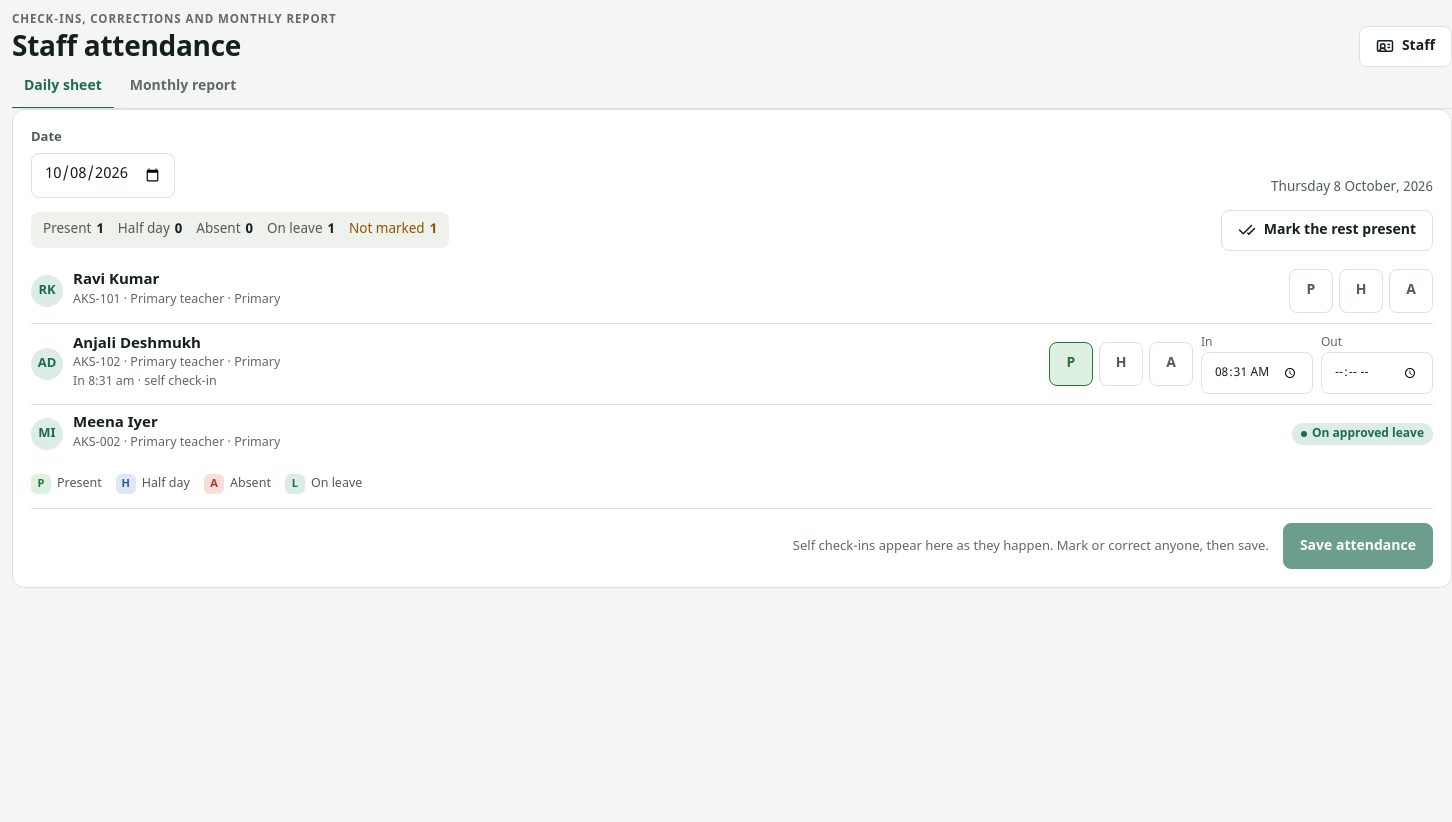
Test: daily sheet › marks and corrects, keeping approved leave locked
The width and height of the screenshot is (1452, 822).
Expected: the number of list items with test id "staff-sheet-row" is 3, x1=31 y1=259 x2=1433 y2=324; x1=31 y1=324 x2=1433 y2=405; x1=31 y1=405 x2=1433 y2=462
Expected: the list item with test id "staff-sheet-row" shows "In 8:31 am · self check-in", x1=73 y1=374 x2=217 y2=390
Click the button "Mark the rest present".
click(1327, 230)  # box x1=1221 y1=210 x2=1433 y2=251
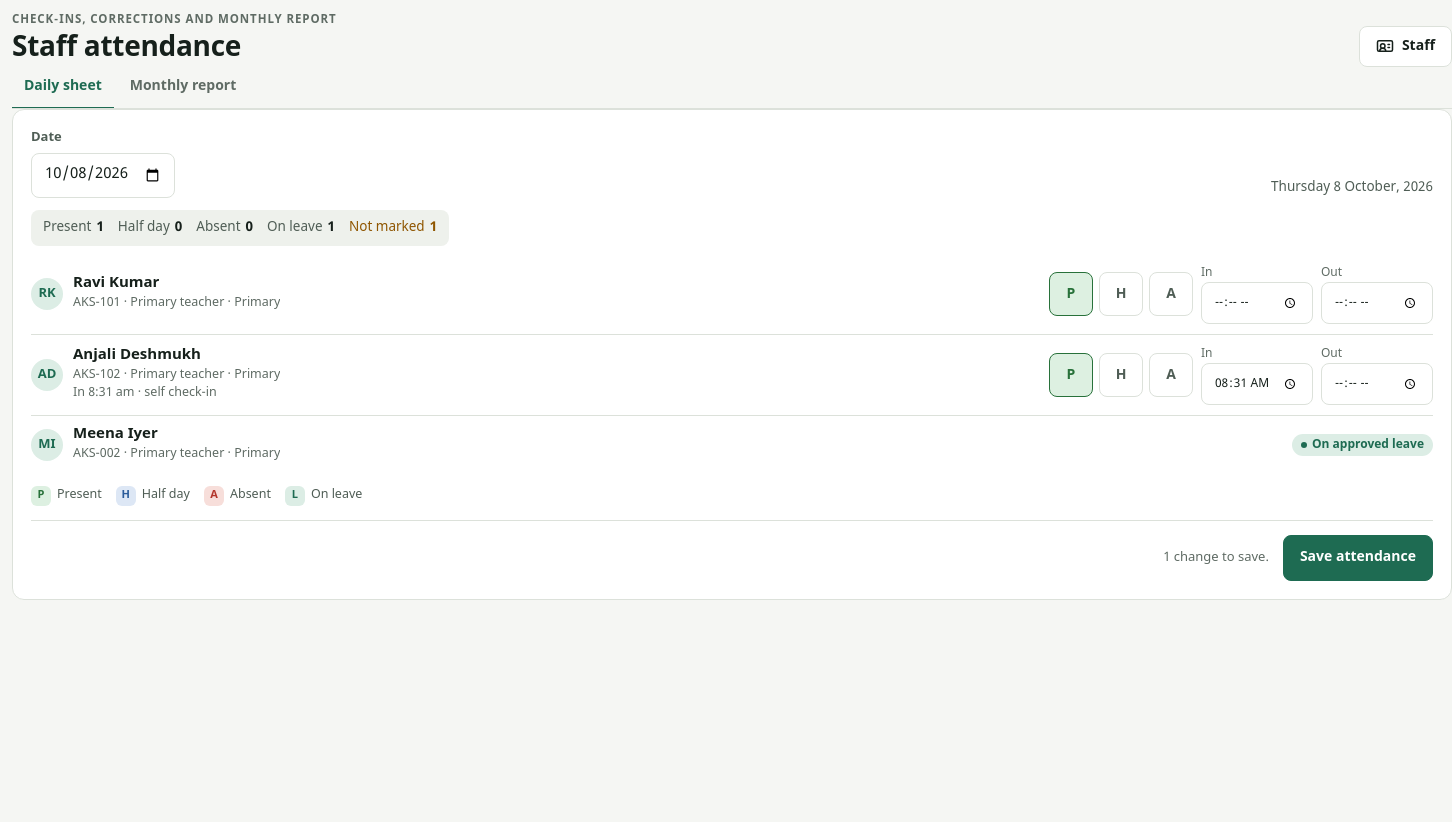
Expected: the button named "Present" is pressed, x1=1049 y1=272 x2=1093 y2=316
Type "16:00" into the time field named "Check-out time of Anjali Deshmukh".
click(1377, 384); type("16:00")  # box x1=1321 y1=363 x2=1433 y2=405
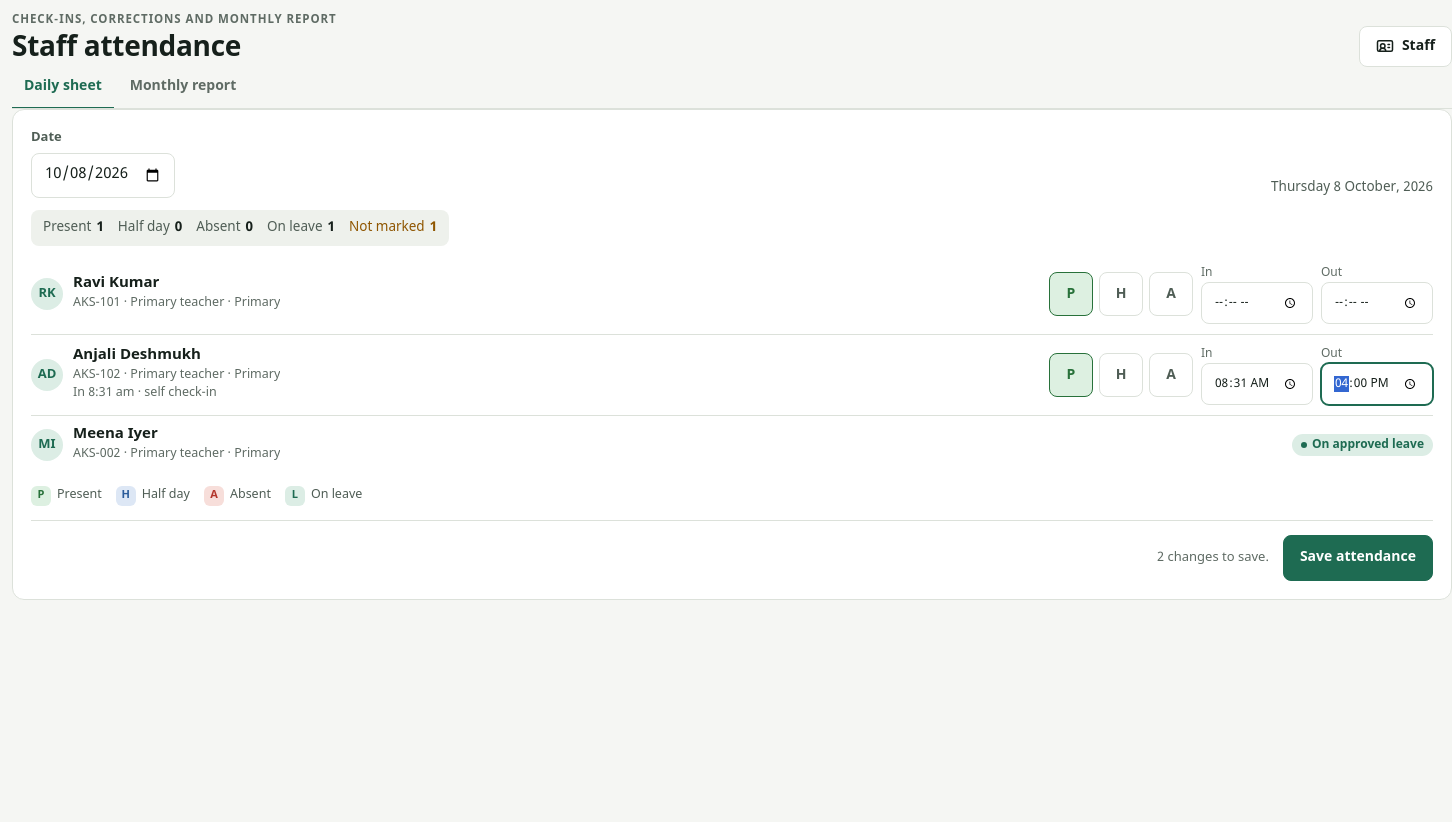
Click the button with test id "staff-sheet-save".
click(1358, 558)  # box x1=1283 y1=535 x2=1433 y2=581
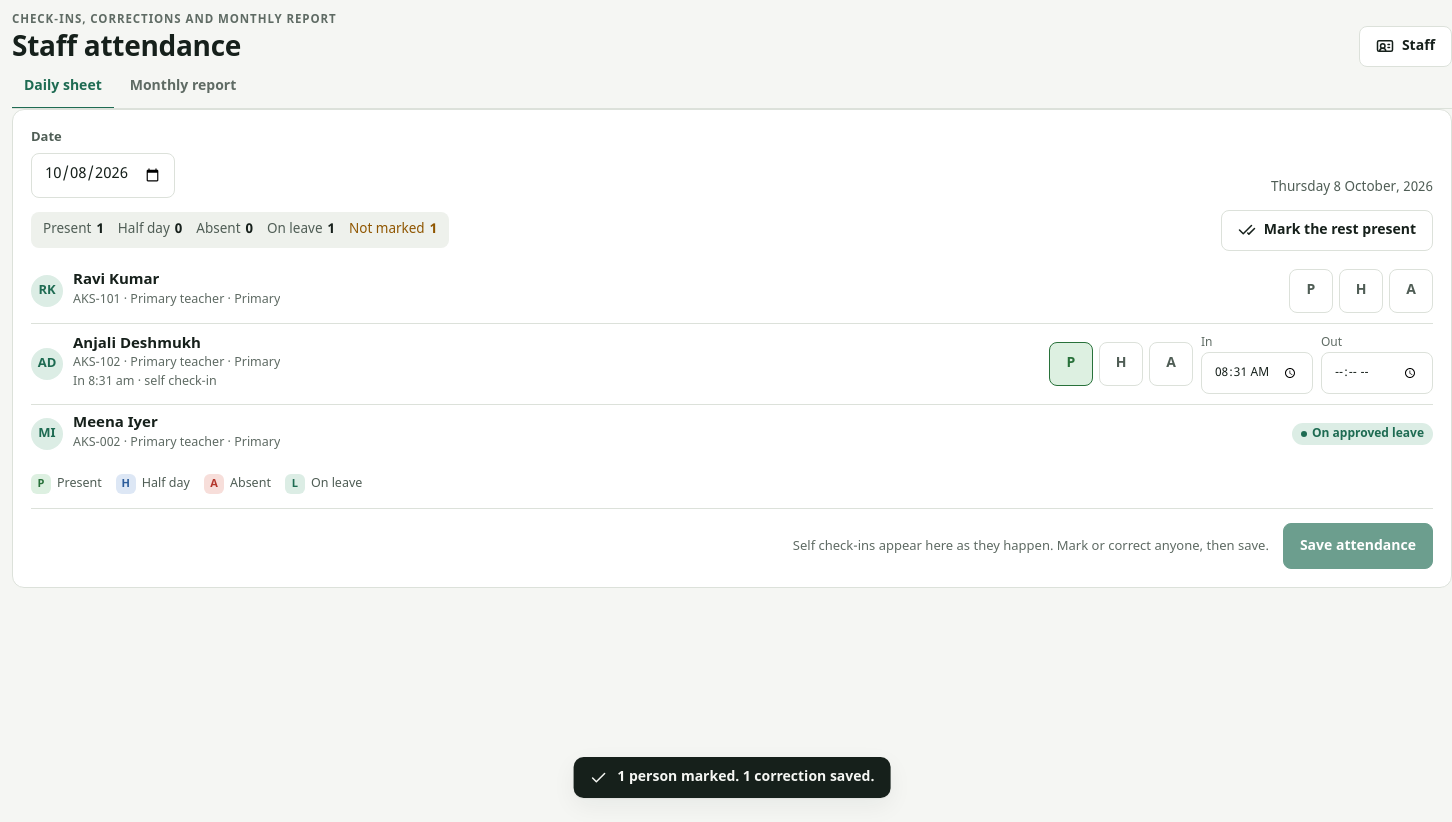
Expected: the text "1 person marked. 1 correction saved." is shown, x1=574 y1=757 x2=890 y2=798
